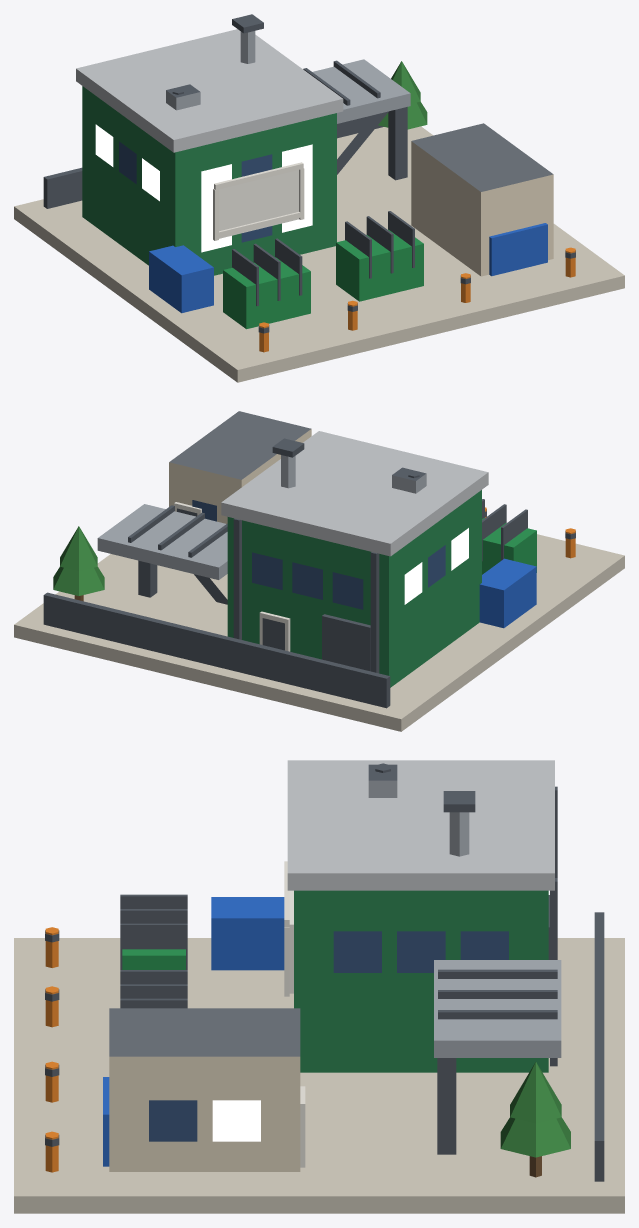
3 views of the same model, one above another, from view 1: azimuth 30°, elevation 25°; view 2: azimuth 150°, elevation 25°; view 3: azimuth 270°, elevation 25° (orthographic). The views are drawn at different scales.
Parts seen in each view (by area): view 1: b39; view 2: b39; view 3: b39.
Boxes of the visible parts, <box> form: b39: <box>14,14,624,382</box>; b39: <box>14,411,624,731</box>; b39: <box>14,760,624,1213</box>.
Size of the model in its own units: 0.96 by 0.474 by 0.96.
